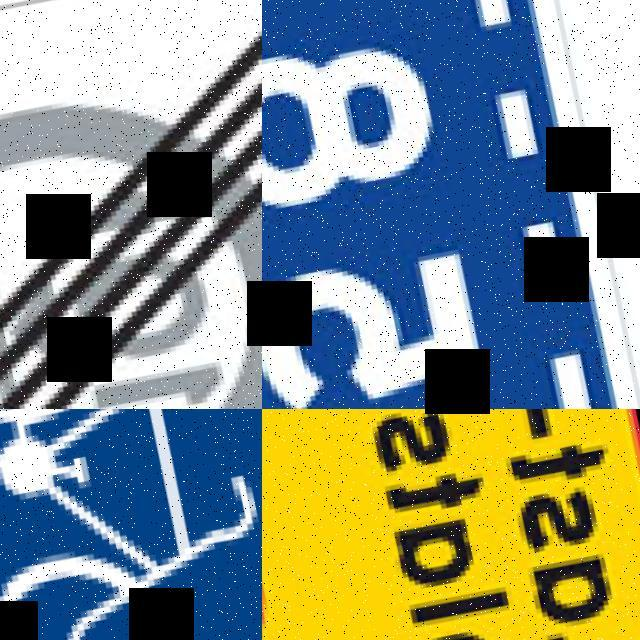111: (0, 0, 262, 409)
172: (262, 0, 640, 409)
177: (262, 409, 640, 640)
Cycle track: (0, 409, 262, 640)
